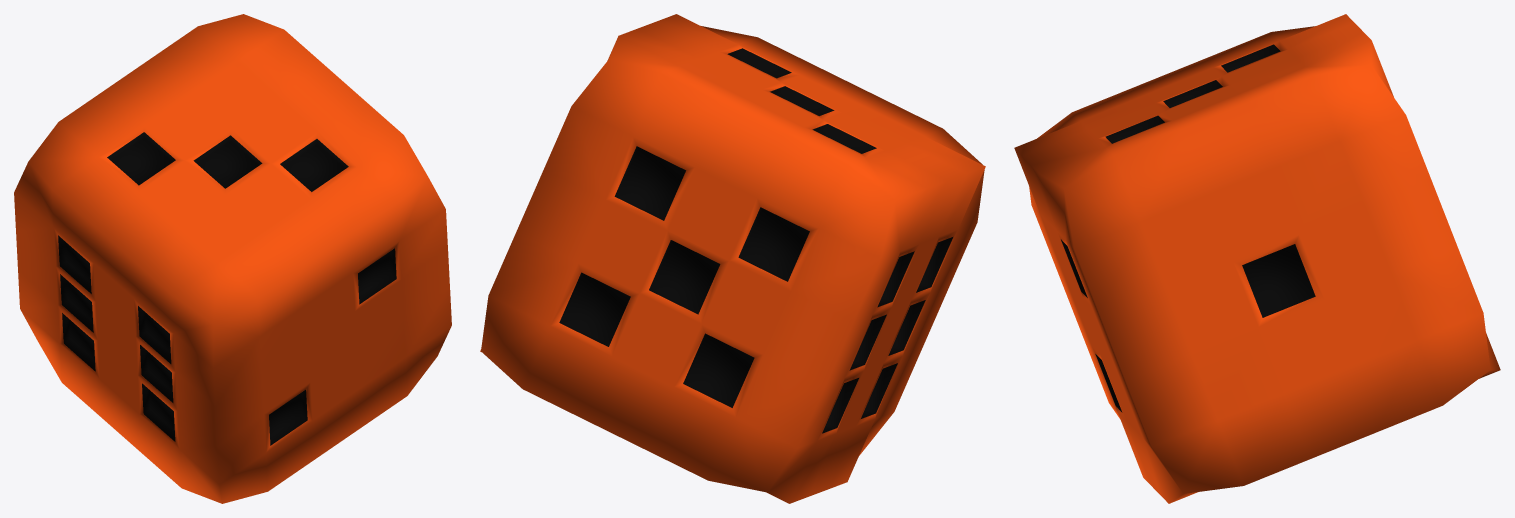
Rendered from dice.dae.
3 views of the same model, side by side, from view 1: azimuth 30°, elevation 25°; view 2: azimuth 150°, elevation 25°; view 3: azimuth 270°, elevation 25° (orthographic). The views are drawn at different scales.
Visible parts, largest first — view 1: Dice; view 2: Dice; view 3: Dice.
Boxes of the visible parts, x1=… form: Dice: x1=14, y1=14, x2=451, y2=503; Dice: x1=480, y1=14, x2=985, y2=503; Dice: x1=1014, y1=14, x2=1500, y2=503.
Bounding box in the file's own units: 0.5283 × 0.5615 × 0.5427.
